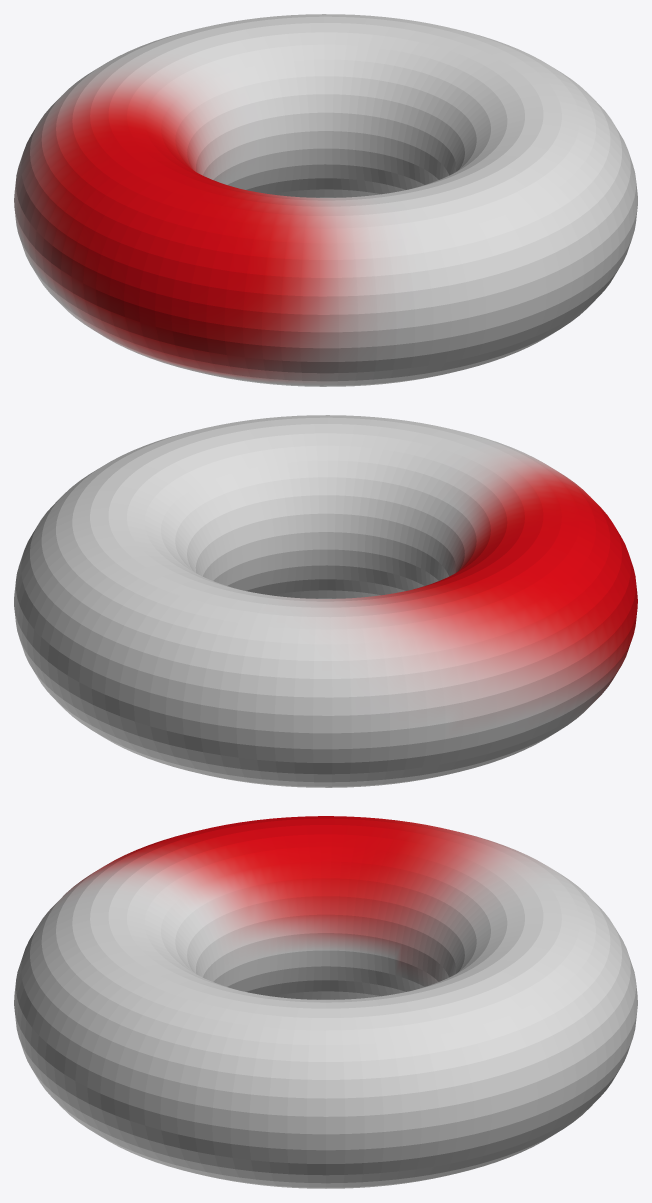
3 renders of one model, top to bottom at view 1: azimuth 30°, elevation 25°; view 2: azimuth 150°, elevation 25°; view 3: azimuth 270°, elevation 25°, orthographic.
Parts seen in each view (by area): view 1: Torus.001; view 2: Torus.001; view 3: Torus.001.
Part boxes in pixels (left/top/right/bottom): Torus.001: left=14, top=14, right=637, bottom=386; Torus.001: left=14, top=415, right=637, bottom=787; Torus.001: left=14, top=816, right=637, bottom=1188.
Size of the model in its own units: 4.26 by 1.29 by 4.26.
